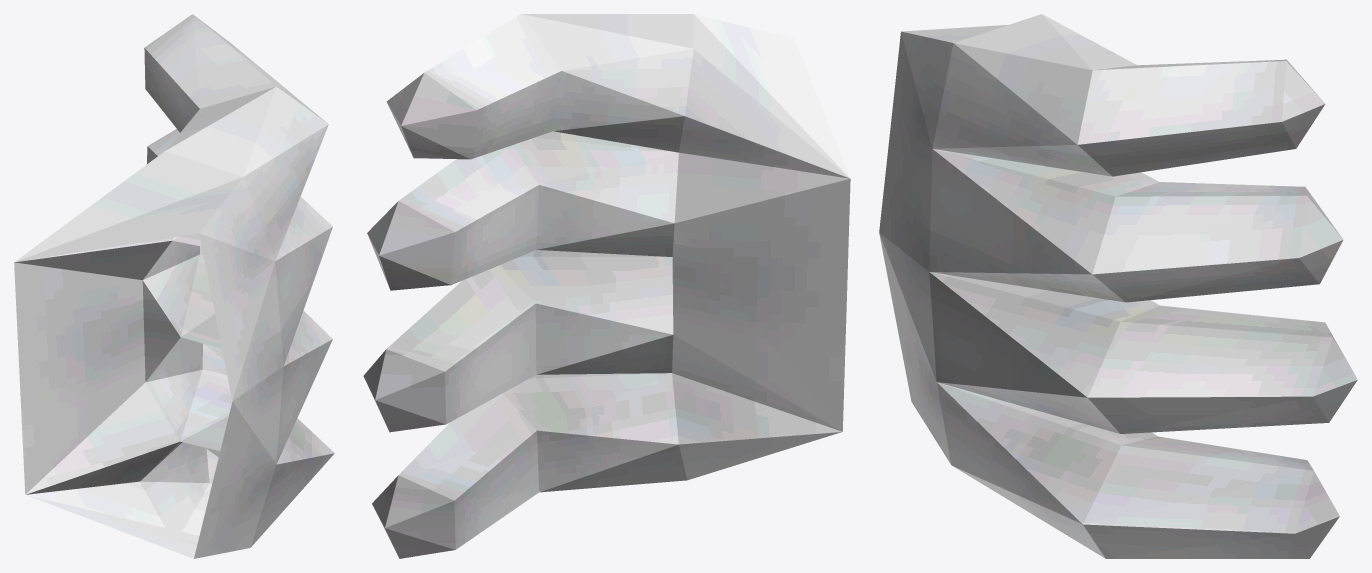
3 renders of one model, left to right at view 1: azimuth 30°, elevation 25°; view 2: azimuth 150°, elevation 25°; view 3: azimuth 270°, elevation 25°, orthographic. The views are drawn at different scales.
Visible parts, largest first — view 1: mesh_35BFDB60F0F2015A; view 2: mesh_35BFDB60F0F2015A; view 3: mesh_35BFDB60F0F2015A.
Part boxes in pixels (<box>): mesh_35BFDB60F0F2015A: <box>14,14,334,558</box>; mesh_35BFDB60F0F2015A: <box>363,14,850,558</box>; mesh_35BFDB60F0F2015A: <box>879,14,1357,558</box>.
Bounding box in the file's own units: 1.34 × 1.66 × 1.46.
